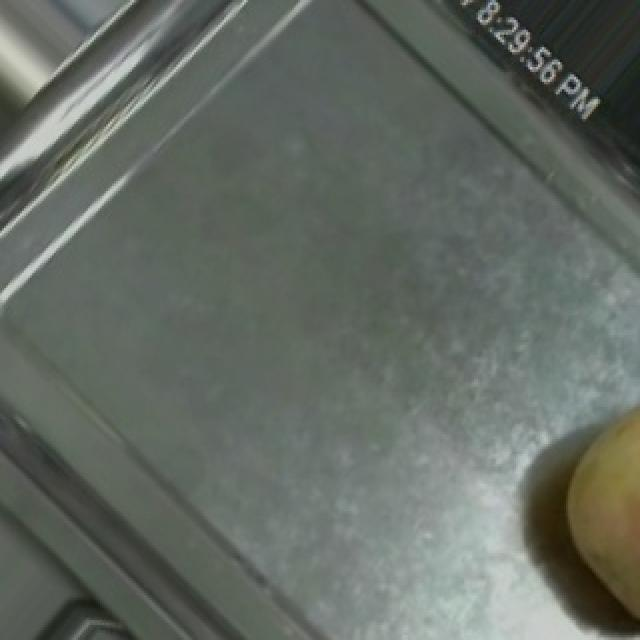Fruit: (534, 374, 640, 640)
